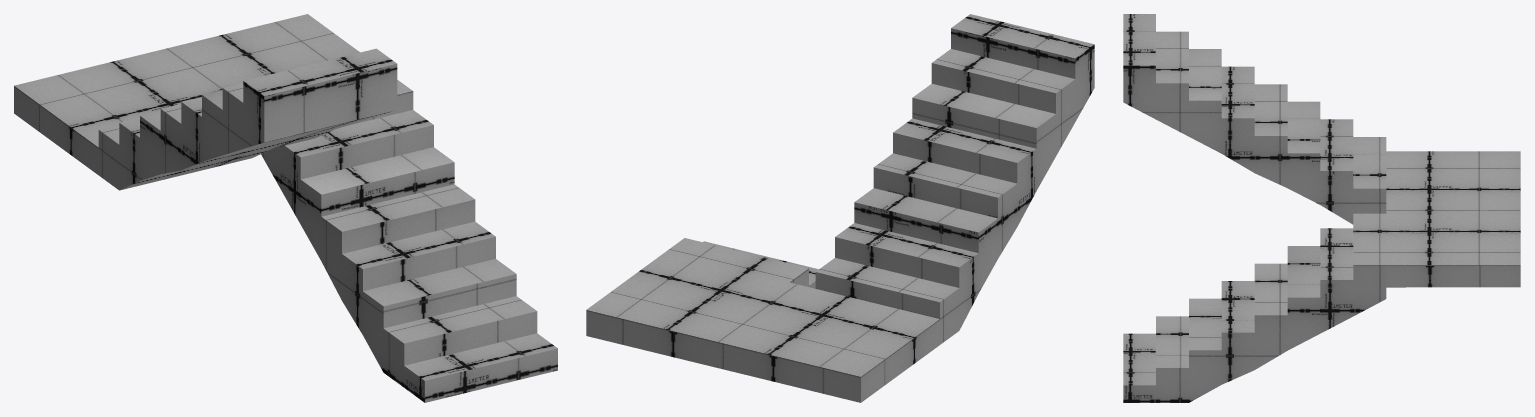
Rendered from Casa_INTERIOR_Escalera_sotano.fbx.
3 views of the same model, side by side, from view 1: azimuth 30°, elevation 25°; view 2: azimuth 150°, elevation 25°; view 3: azimuth 270°, elevation 25° (orthographic). The views are drawn at different scales.
Parts seen in each view (by area): view 1: Casa_INTERIOR_Escalera_sotano; view 2: Casa_INTERIOR_Escalera_sotano; view 3: Casa_INTERIOR_Escalera_sotano.
Boxes of the visible parts, x1=… form: Casa_INTERIOR_Escalera_sotano: x1=14, y1=14, x2=557, y2=402; Casa_INTERIOR_Escalera_sotano: x1=586, y1=14, x2=1094, y2=402; Casa_INTERIOR_Escalera_sotano: x1=1123, y1=14, x2=1520, y2=402.
Bounding box in the file's own units: 2.88 × 3.23 × 4.23.
